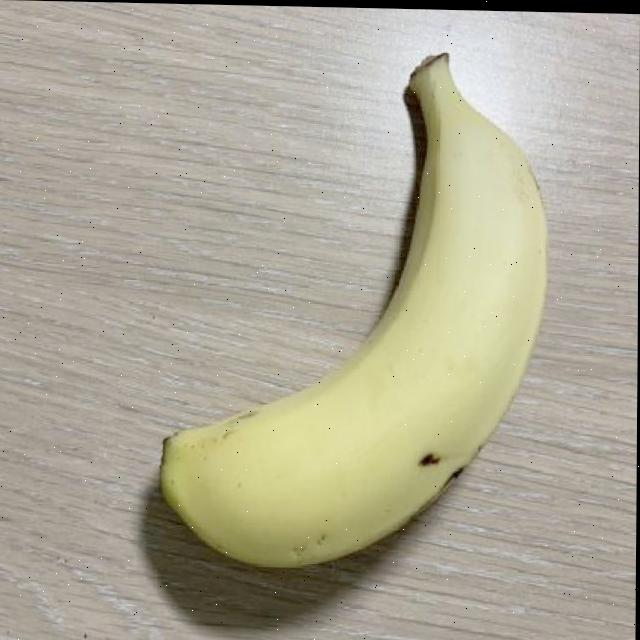banana: (147, 36, 557, 591)
